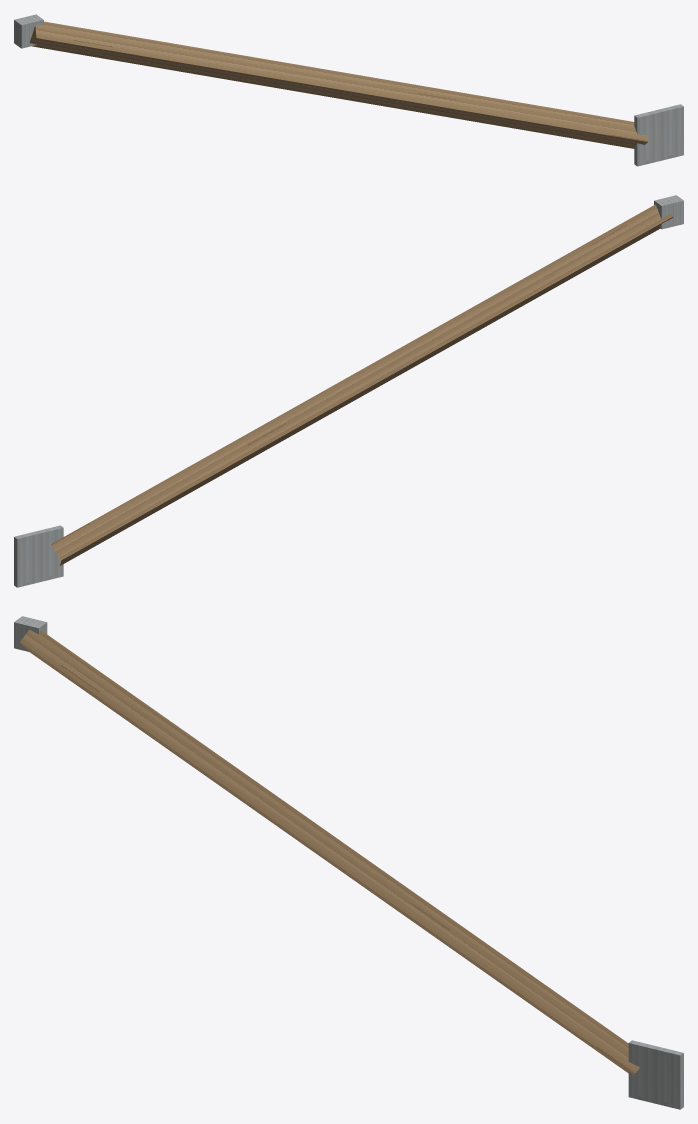
Rendered from brace_l.obj.
3 renders of one model, top to bottom at view 1: azimuth 30°, elevation 25°; view 2: azimuth 210°, elevation 25°; view 3: azimuth 330°, elevation 25°, orthographic. The views are drawn at different scales.
Parts seen in each view (by area): view 1: crossarm_alley_wood_6_l; view 2: crossarm_alley_wood_6_l; view 3: crossarm_alley_wood_6_l.
Boxes of the visible parts, left/top/right/bottom form: crossarm_alley_wood_6_l: left=14, top=14, right=683, bottom=166; crossarm_alley_wood_6_l: left=14, top=195, right=683, bottom=587; crossarm_alley_wood_6_l: left=14, top=616, right=683, bottom=1109.
Size of the model in its own units: 4.23 by 1.67 by 0.5119.
